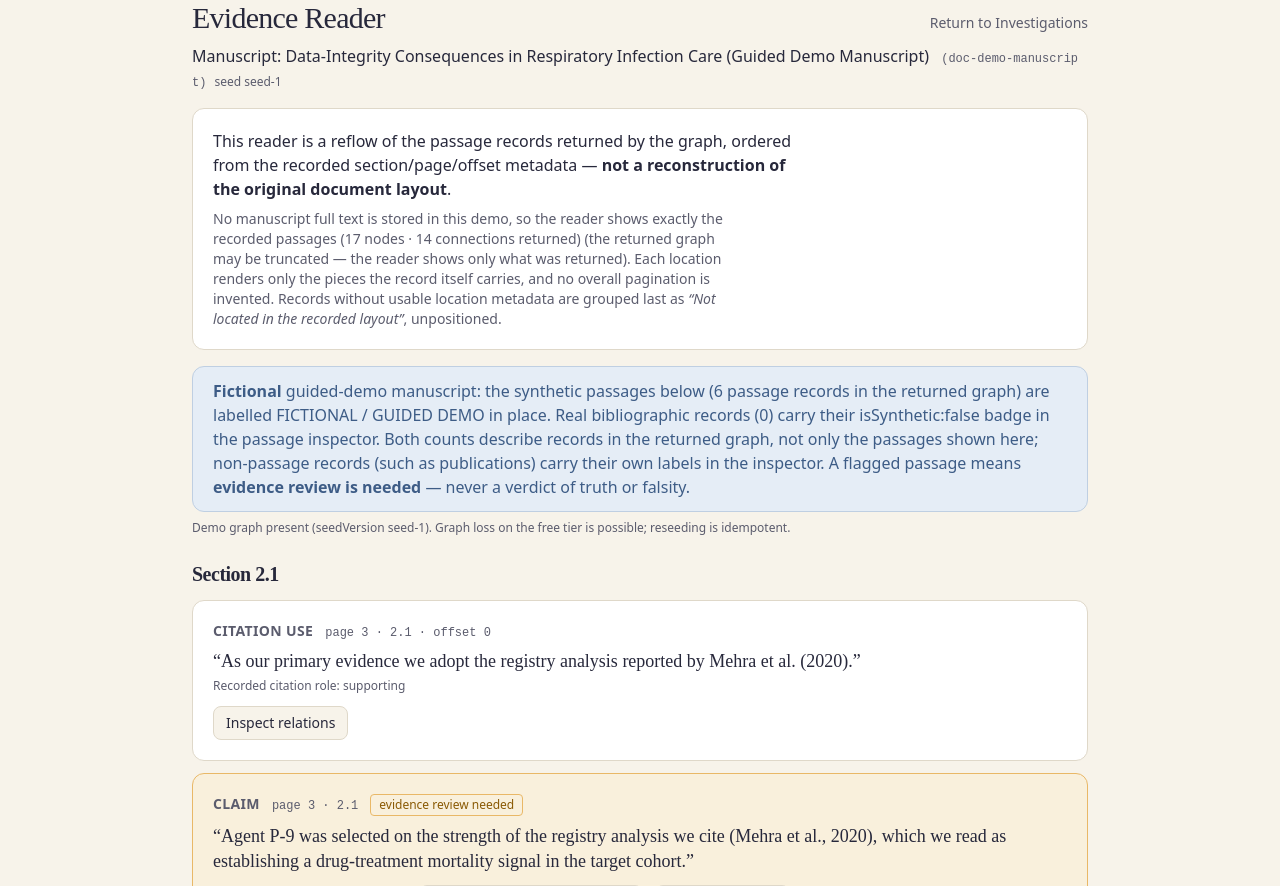
it: EvidenceReaderPage — read-only ordered reflow of returned passage records › inspector labels relations precisely: supports ≠ mentions historically ≠ possible match
Check: the element with test id "reader-manuscript-title" is shown, box [192, 44, 1088, 92]
// Citation use supports claim-A (and references the real publication).
Click the button with test id "reader-inspect-cu-A-supporting".
click(281, 723)  # box [213, 706, 348, 740]
(page scrolled)
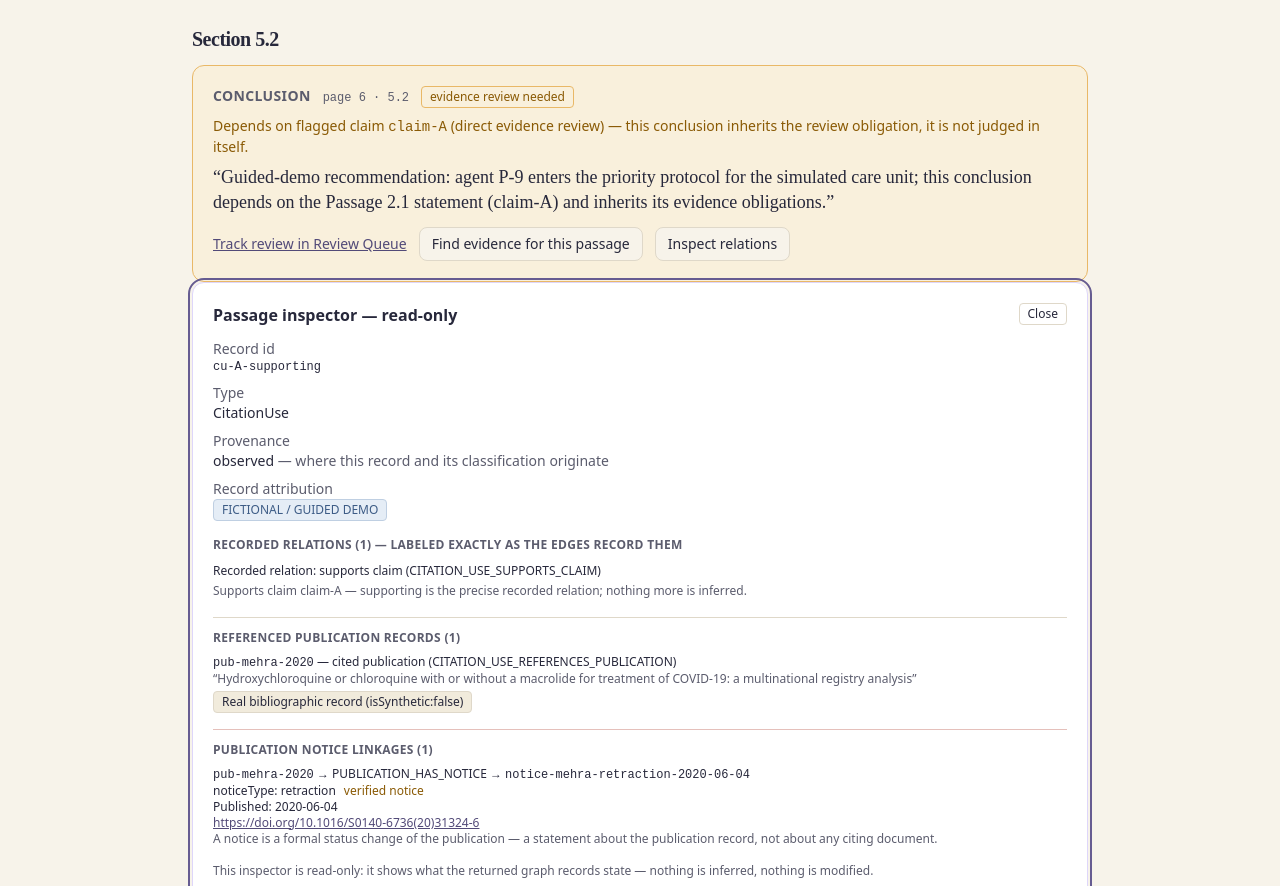
Check: the text with test id "reader-inspector-id" reads "cu-A-supporting", box [213, 360, 321, 374]
Check: the list with test id "reader-inspector-notices" shows "noticeType: retraction", box [213, 765, 938, 847]
Check: the list with test id "reader-inspector-notices" shows "2020-06-04", box [275, 798, 338, 815]
Click the button with test id "reader-inspector-close".
click(1043, 314)  # box [1018, 303, 1067, 325]
(page scrolled)
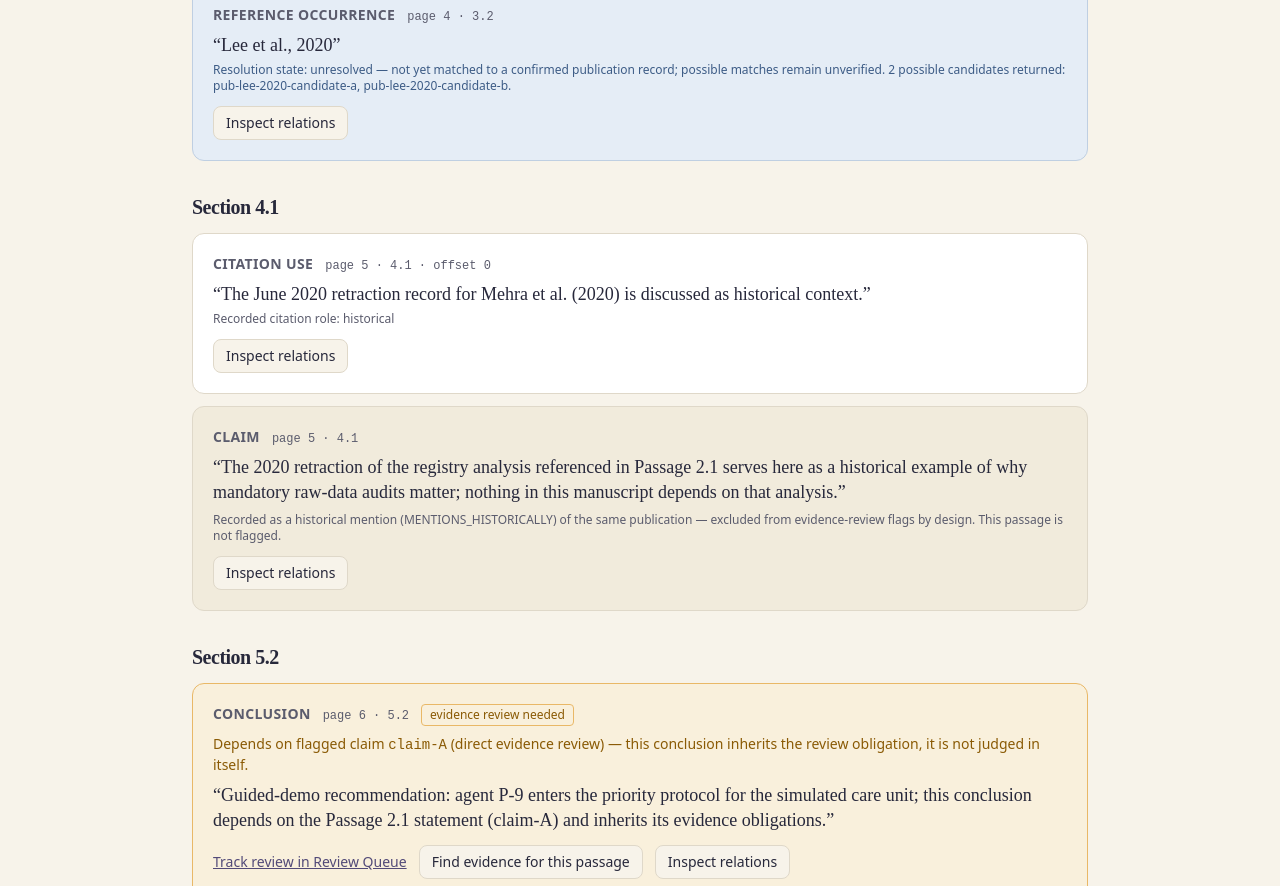
Click the button with test id "reader-inspect-cu-B-historical".
click(281, 356)  # box [213, 339, 348, 373]
(page scrolled)
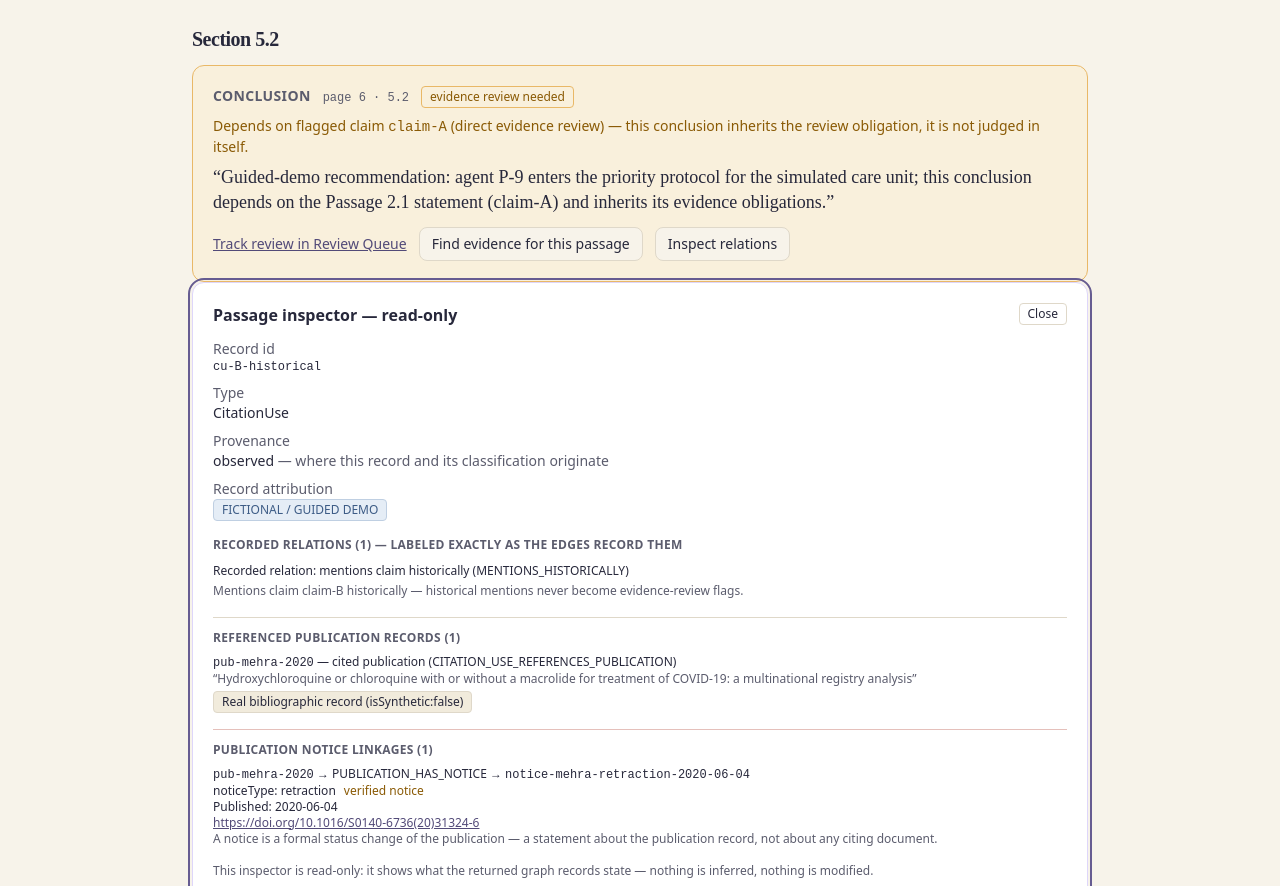
Press Escape
(page scrolled)
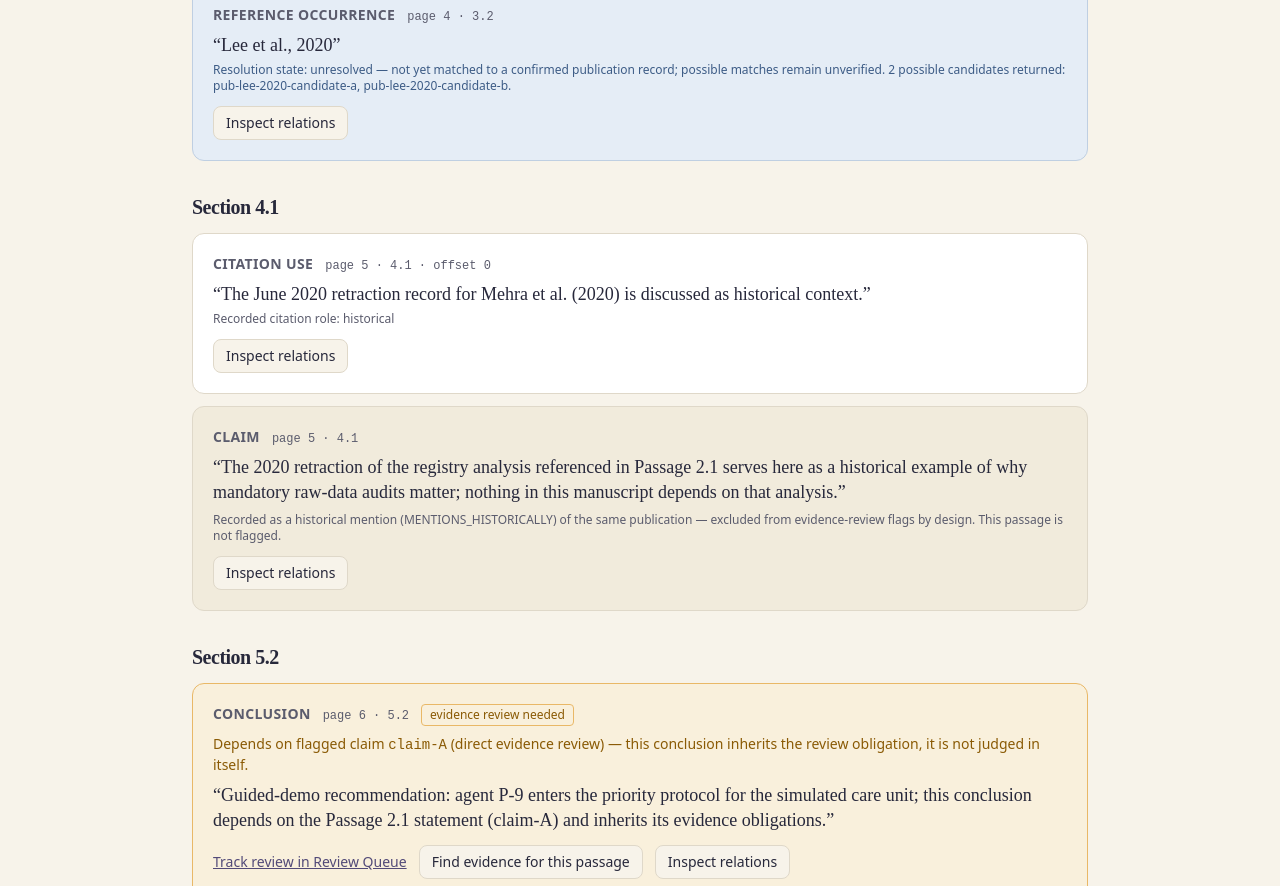
// Reference occurrence: only POSSIBLE_MATCH — labeled unverified, never a match claim.
Click the button with test id "reader-inspect-ref-lee-2020".
click(281, 123)  # box [213, 106, 348, 140]
(page scrolled)
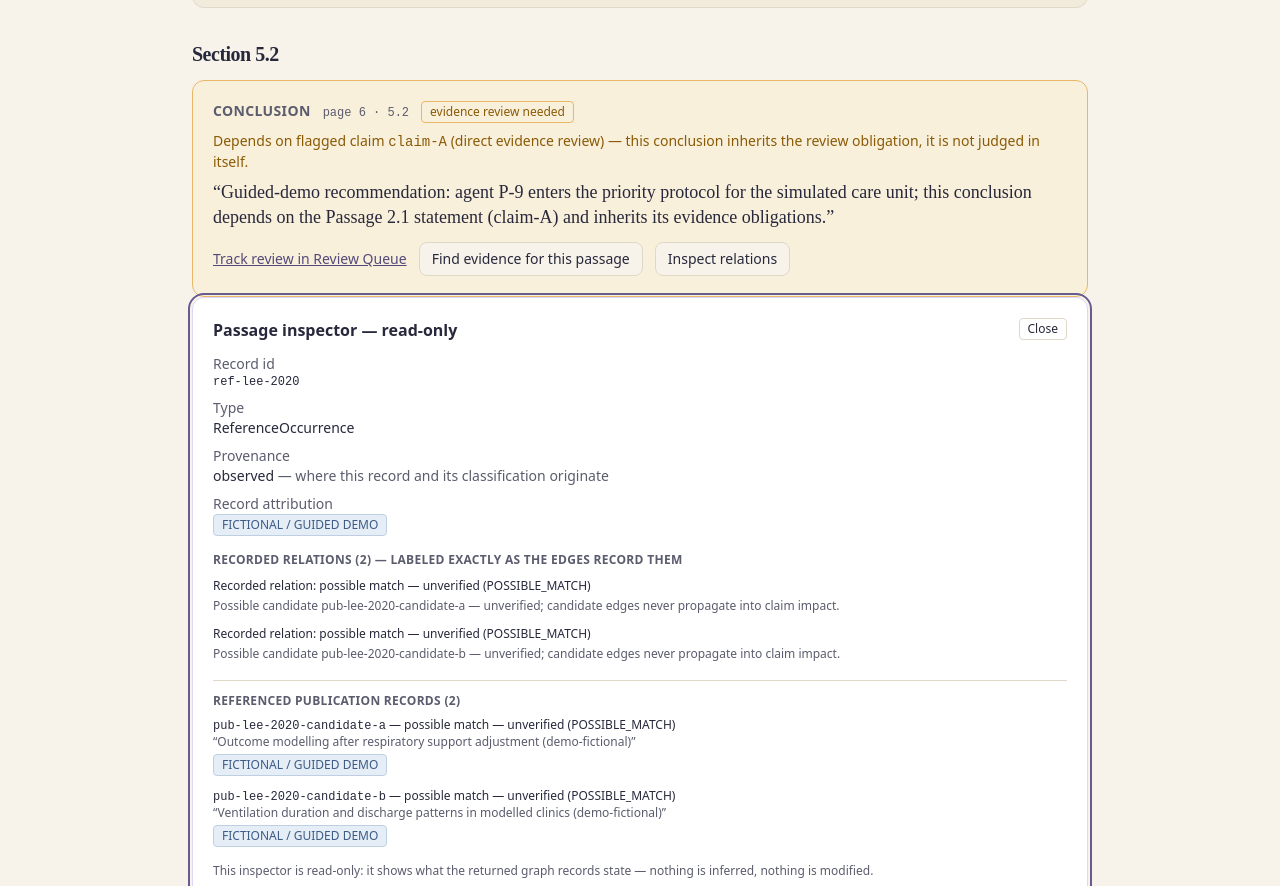
Check: the list with test id "reader-inspector-relations" shows "possible match — unverified (POSSIBLE_MATCH)", box [213, 577, 591, 594]
Check: the list with test id "reader-inspector-relations" shows "pub-lee-2020-candidate-a", box [213, 597, 840, 614]
Check: the list with test id "reader-inspector-relations" shows "pub-lee-2020-candidate-b", box [213, 645, 840, 662]
